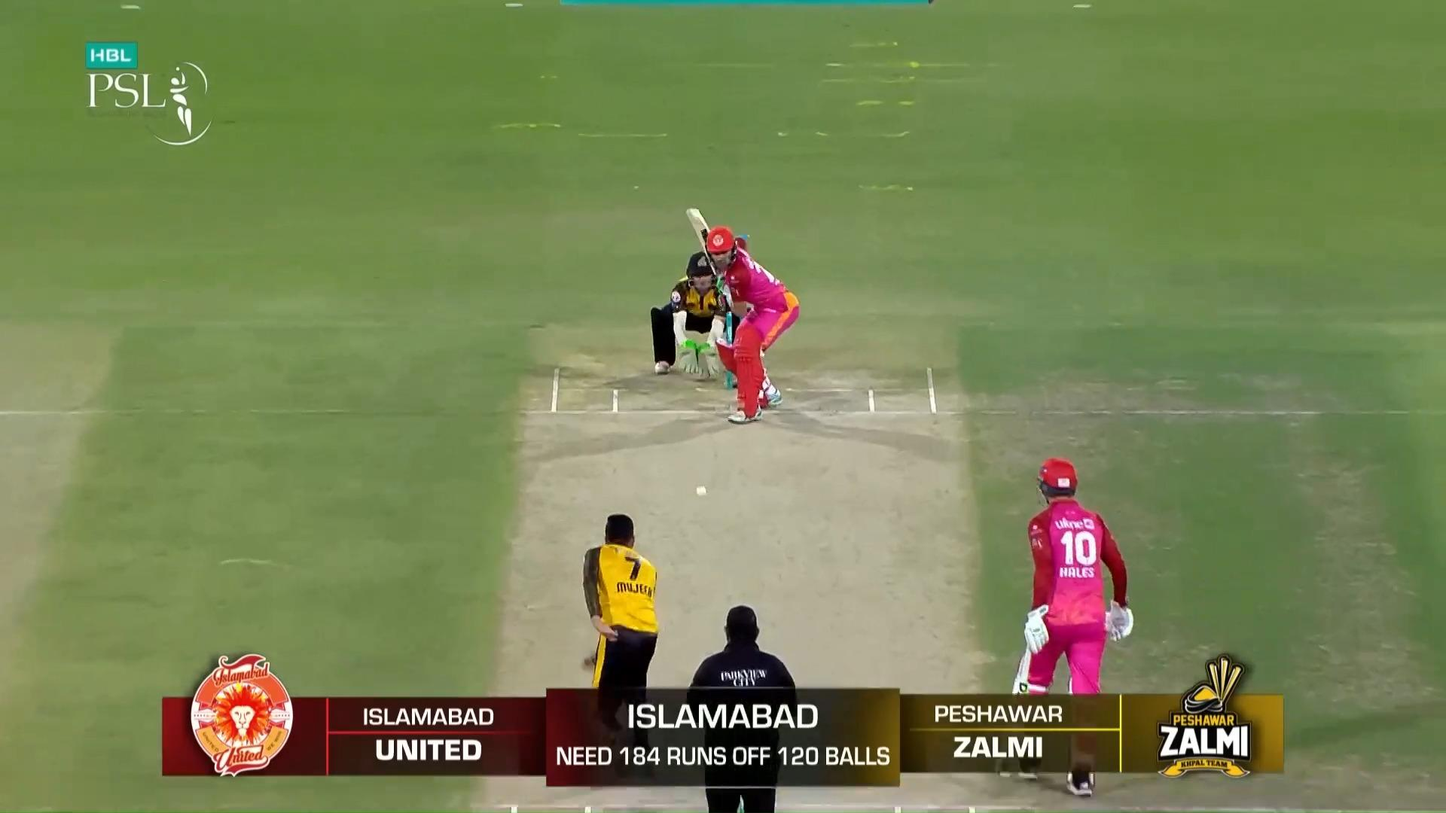batsman: (686, 208, 800, 425)
